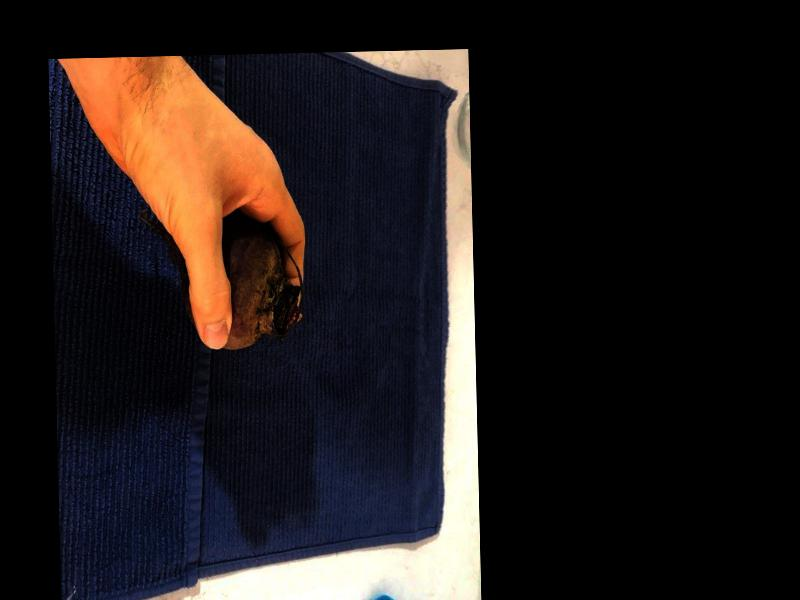Beet: (137, 212, 303, 353)
